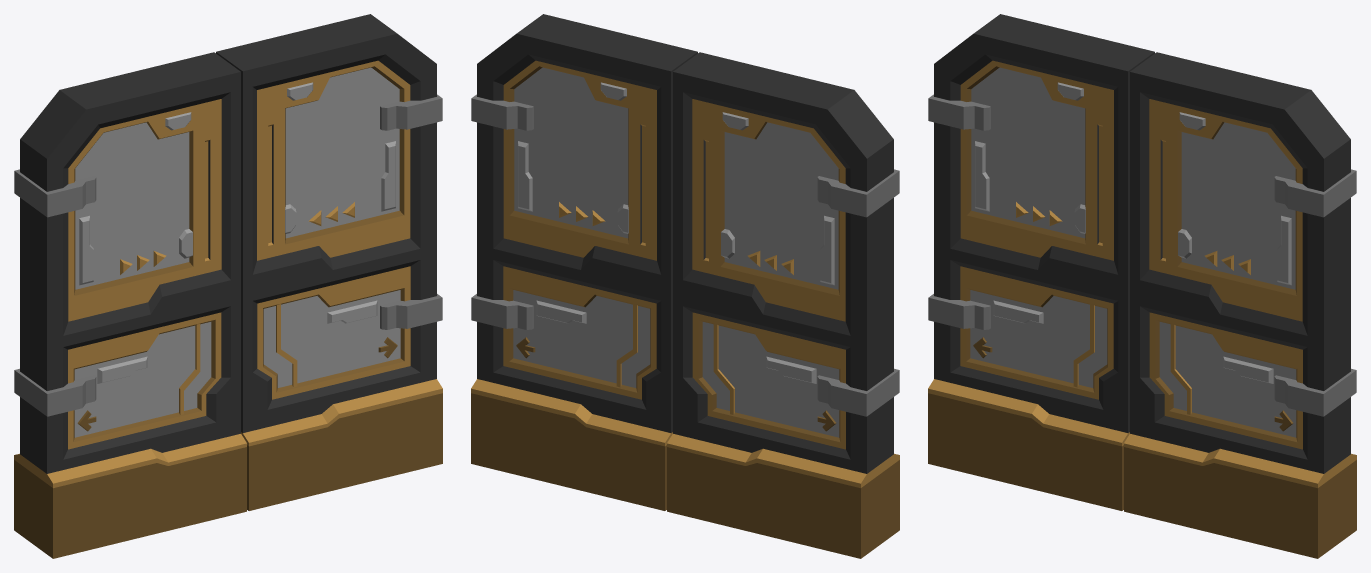
File: Door_Double.glb
The picture shows the model from 3 angles, left to right: view 1: azimuth 30°, elevation 25°; view 2: azimuth 150°, elevation 25°; view 3: azimuth 330°, elevation 25°; orthographic projection.
Parts seen in each view (by area): view 1: Door_Double.L, Door_Double.R; view 2: Door_Double.L, Door_Double.R; view 3: Door_Double.R, Door_Double.L.
Boxes of the visible parts, x1,y1,x2,y2 form: Door_Double.L: [14, 52, 246, 558]; Door_Double.R: [216, 14, 442, 510]; Door_Double.L: [667, 52, 899, 558]; Door_Double.R: [471, 14, 697, 510]; Door_Double.R: [1124, 52, 1356, 558]; Door_Double.L: [928, 14, 1154, 510].
Size of the model in its own units: 2.65 by 2.79 by 0.4542.
